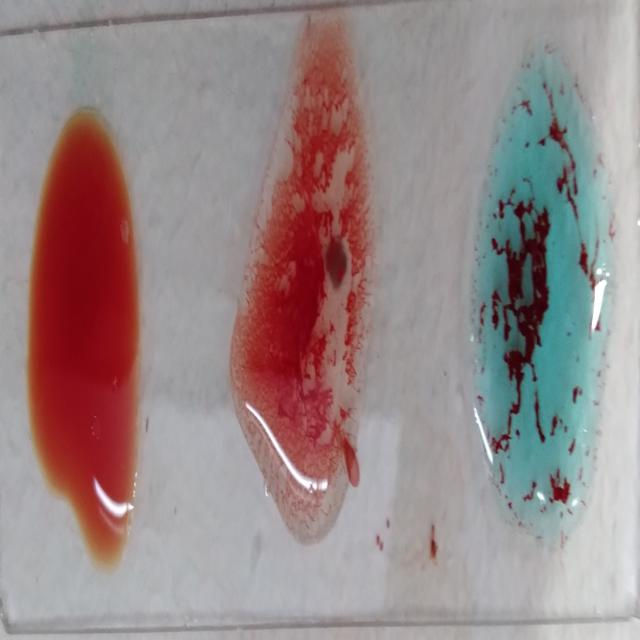A: (468, 29, 609, 546)
D: (236, 6, 380, 548)
